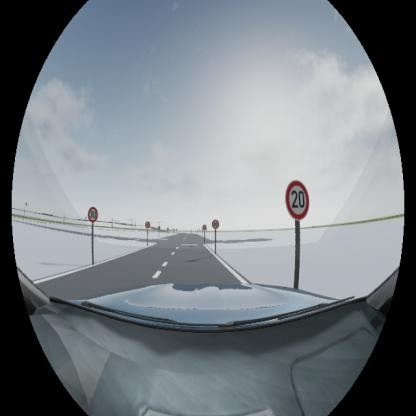Speed Limit 20: (285, 179, 309, 220)
Speed Limit 30: (88, 206, 98, 222)
